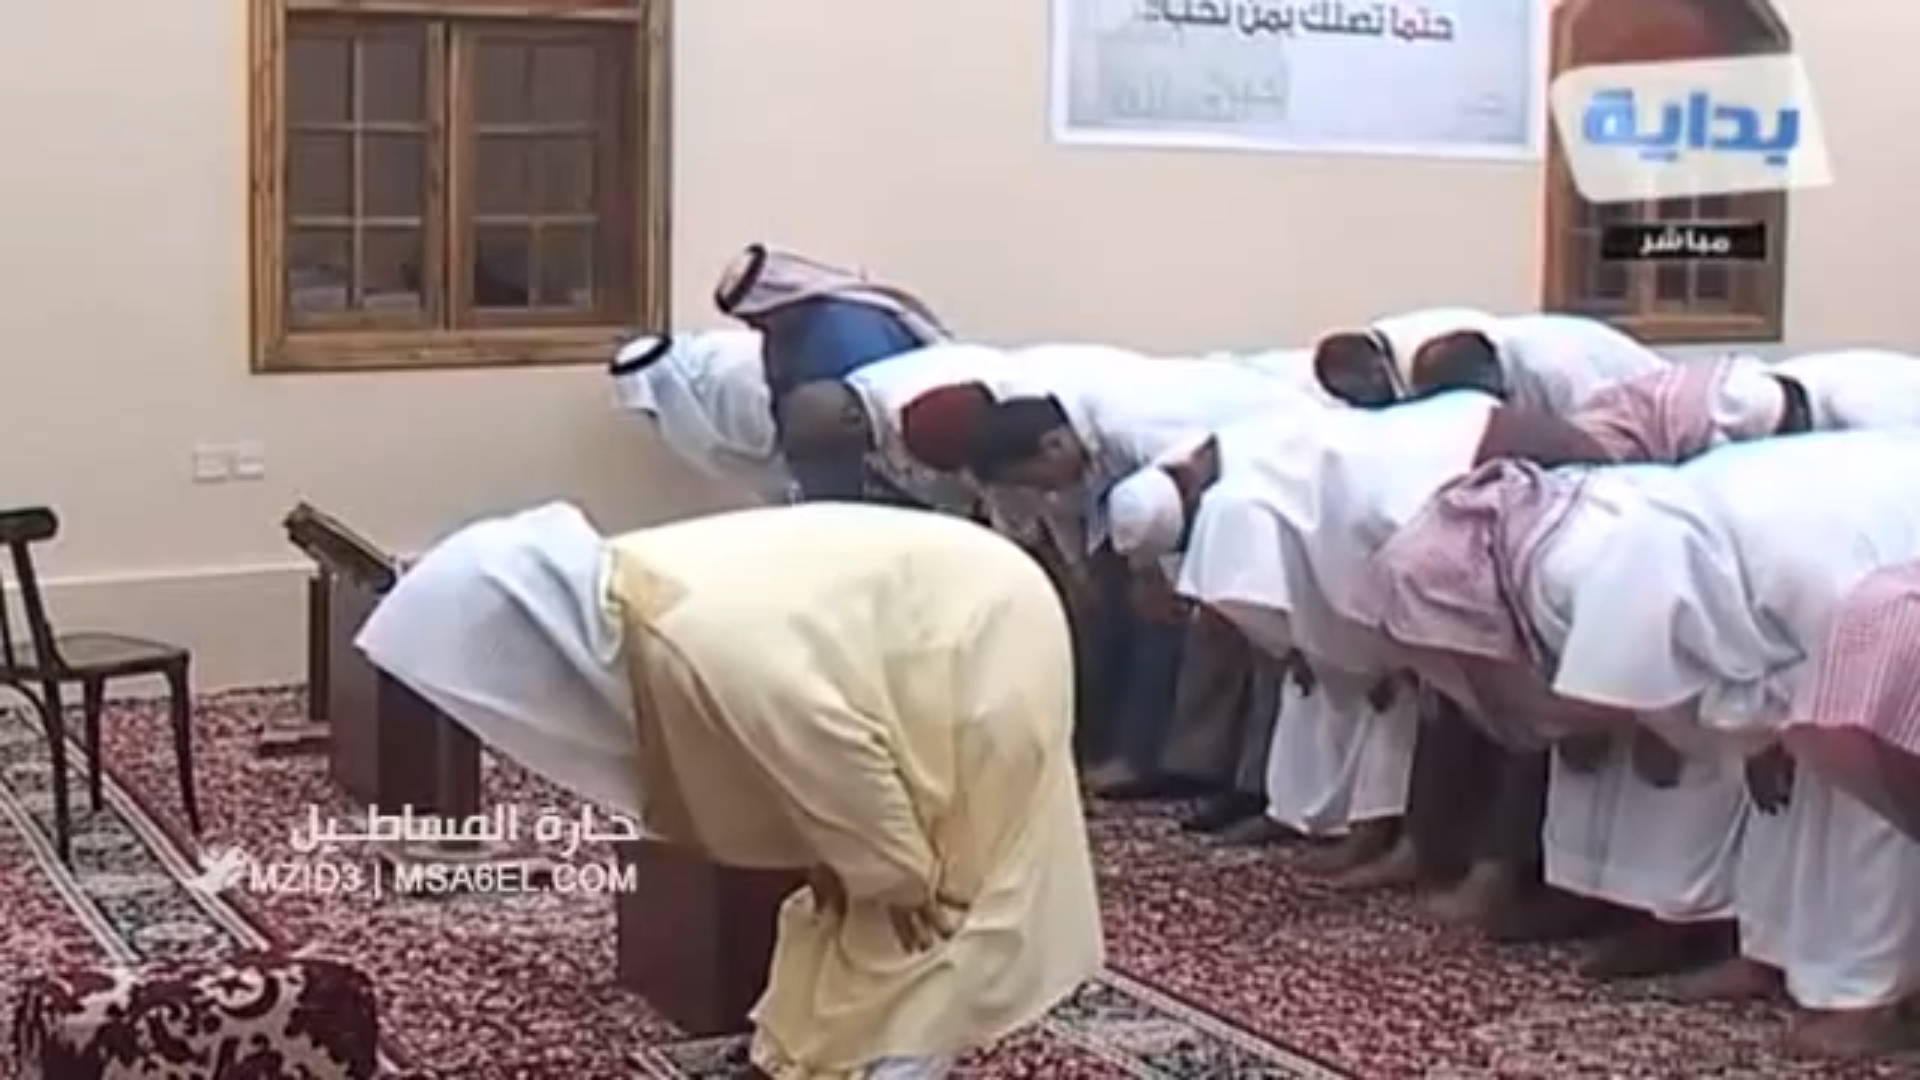ruku: (287, 479, 1120, 1080)
